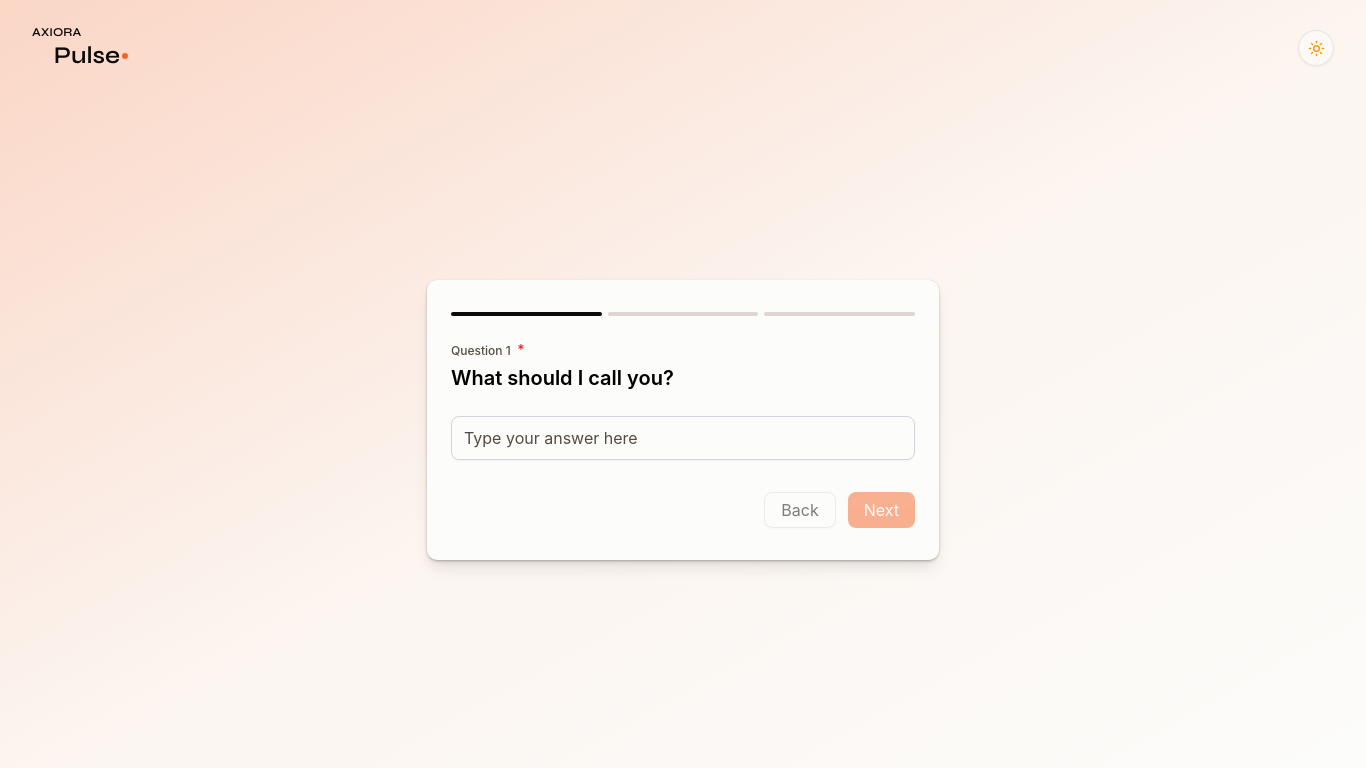
Test: InteractiveQuestionsFlow › disables the completion actions and shows a submitting label while pending
The width and height of the screenshot is (1366, 768).
Type "Farhan" into the field with placeholder "Type your answer here" at (683, 438), box [451,416,915,460]
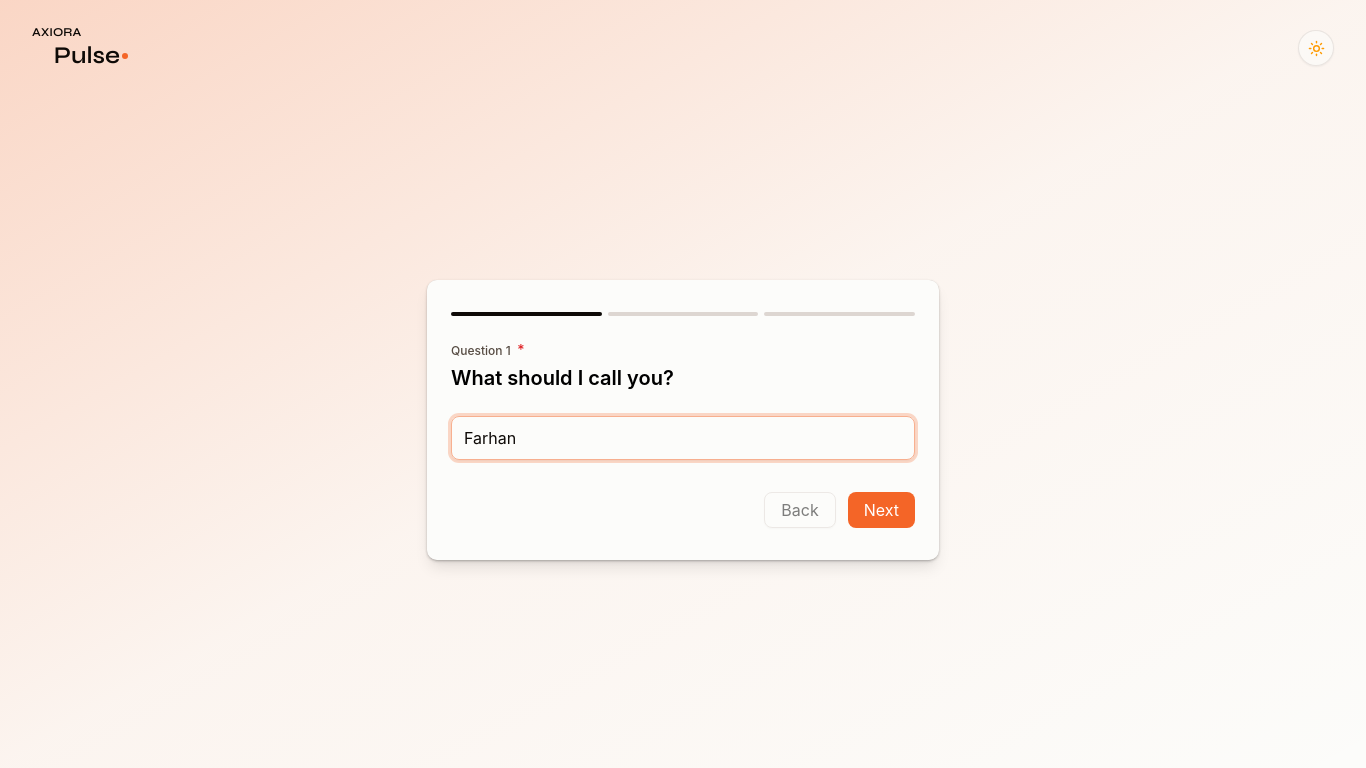
Click the button "Next" at (881, 510), box [848,492,915,528]
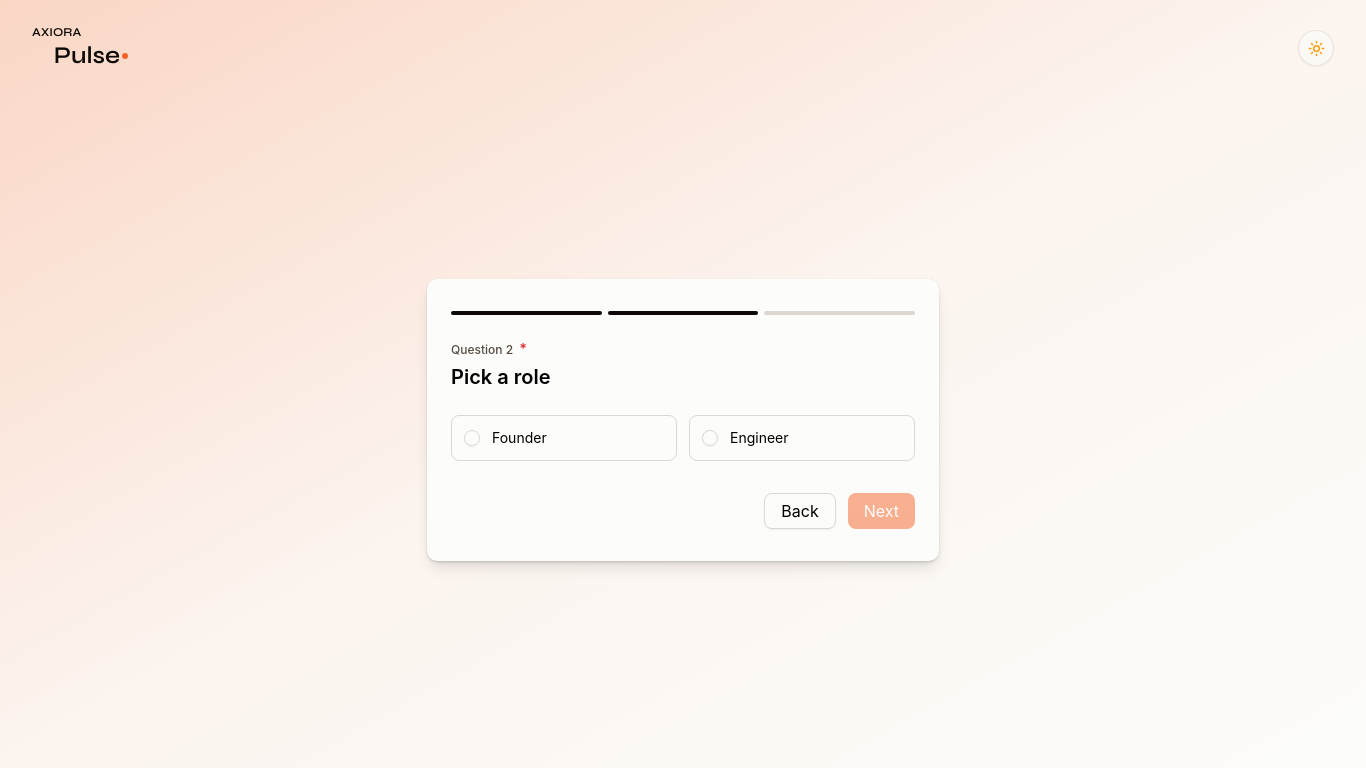
Click the radio button named "Founder" next to "Founder" at (472, 438), box [464,430,480,446]
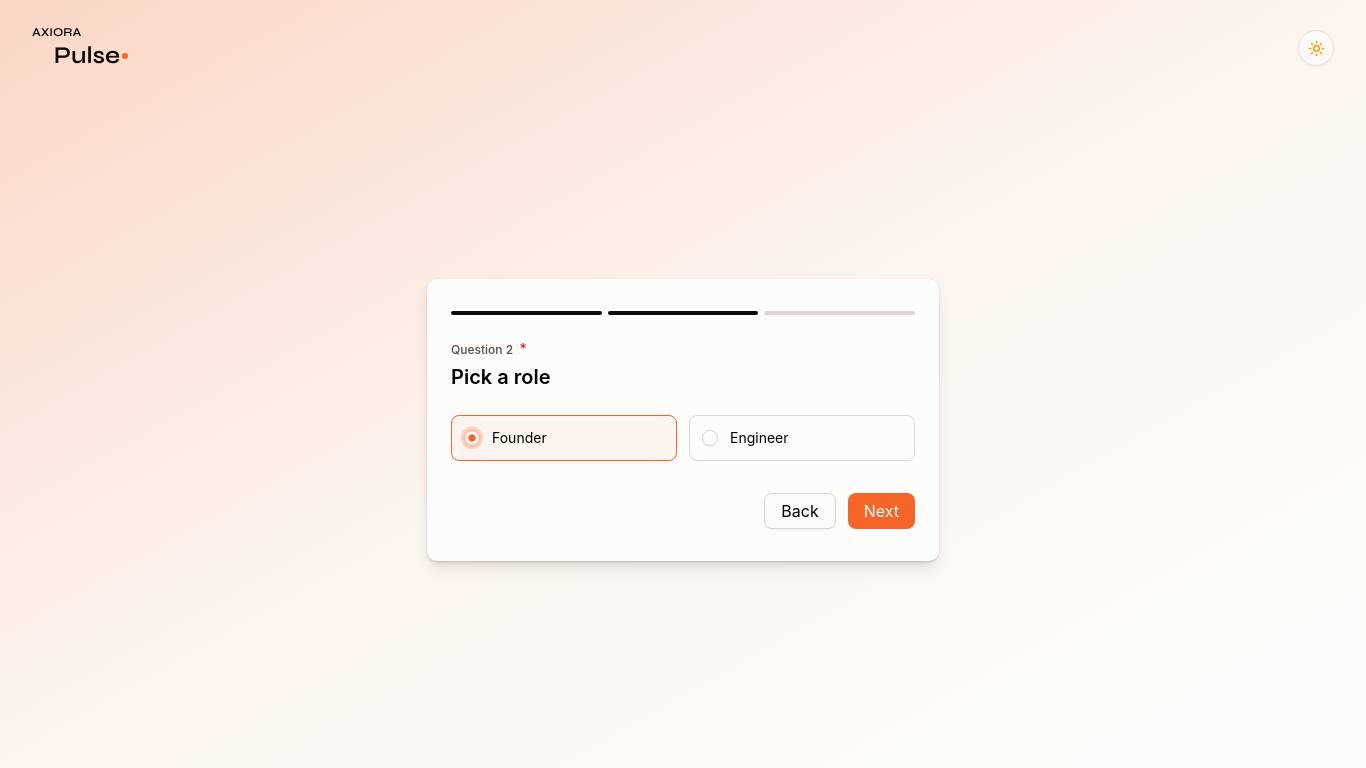
Click the button "Next" at (881, 511), box [848,493,915,529]
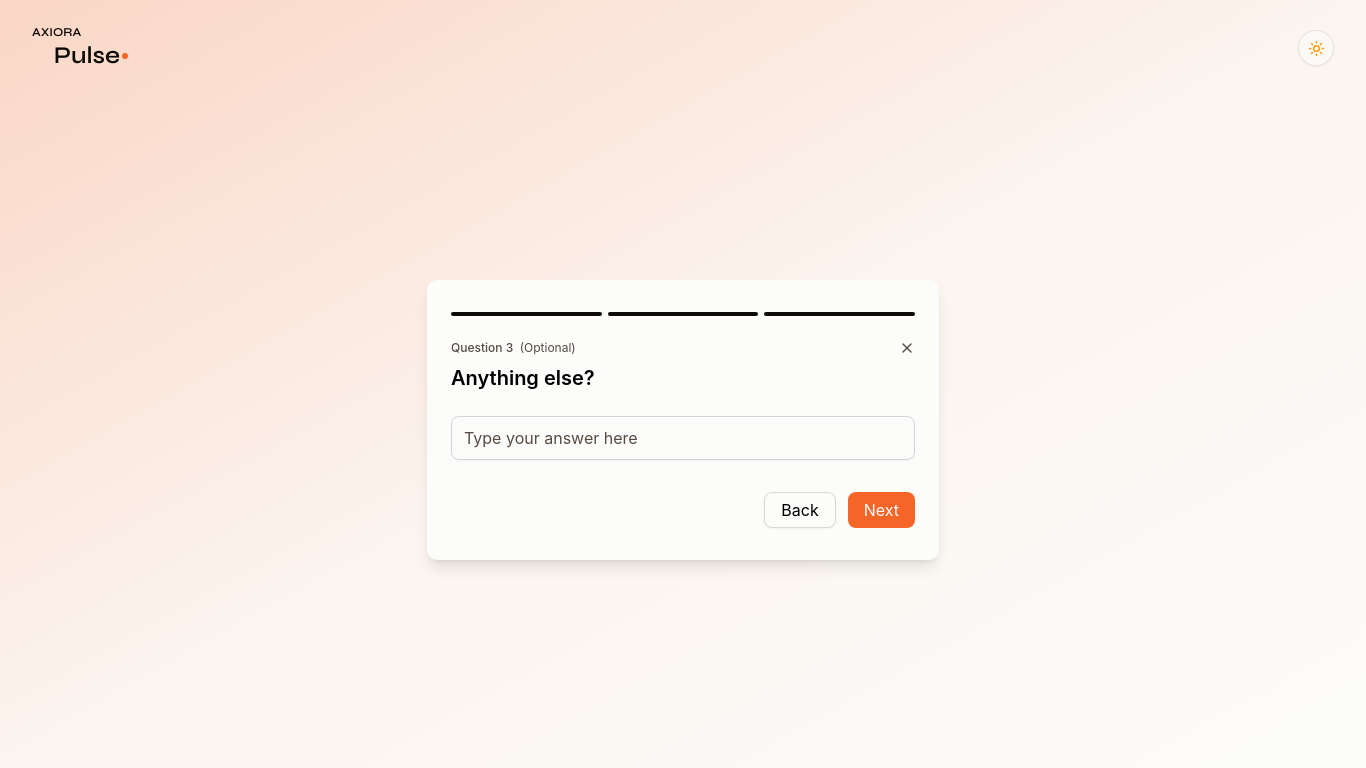
Click the button "Next" at (881, 510), box [848,492,915,528]
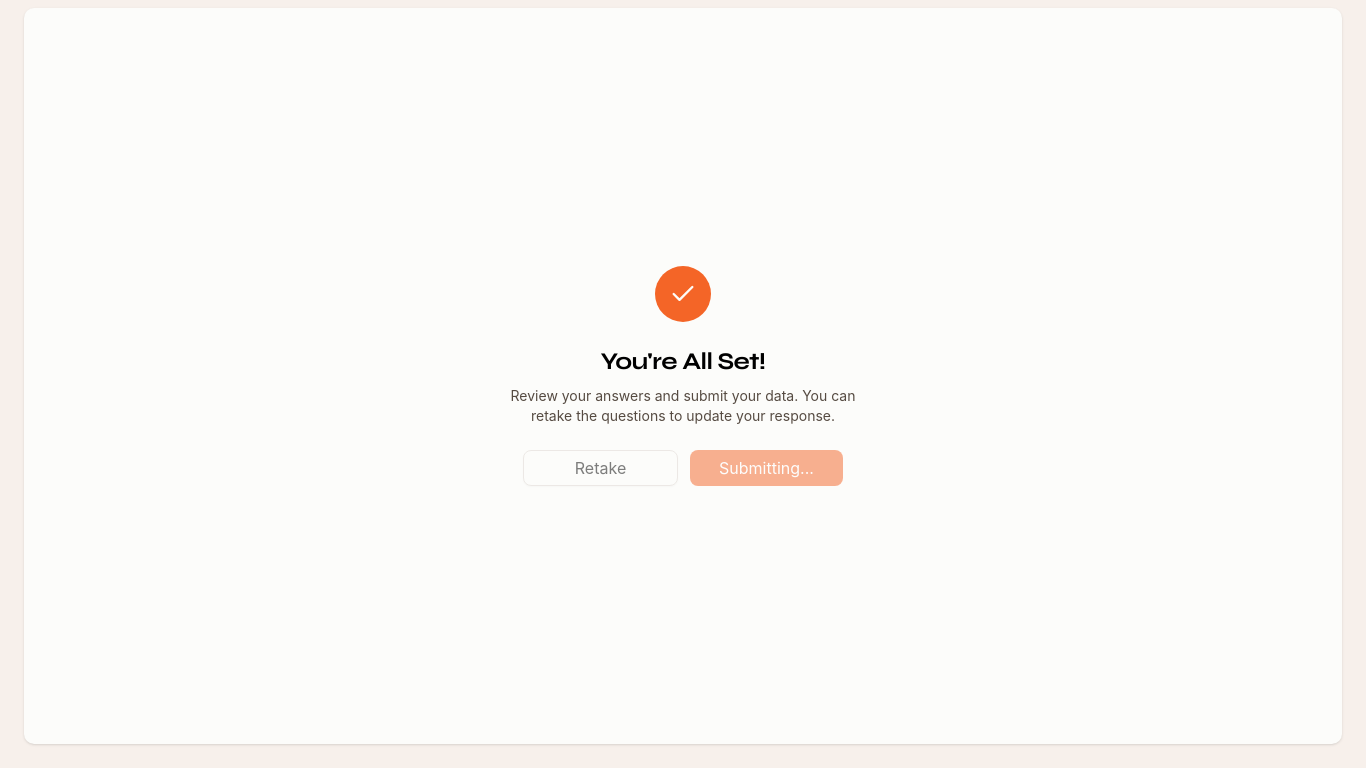
Expected: the button "Retake" is disabled, [523,450,678,486]
Expected: the button "Submitting..." is disabled, [690,450,843,486]
